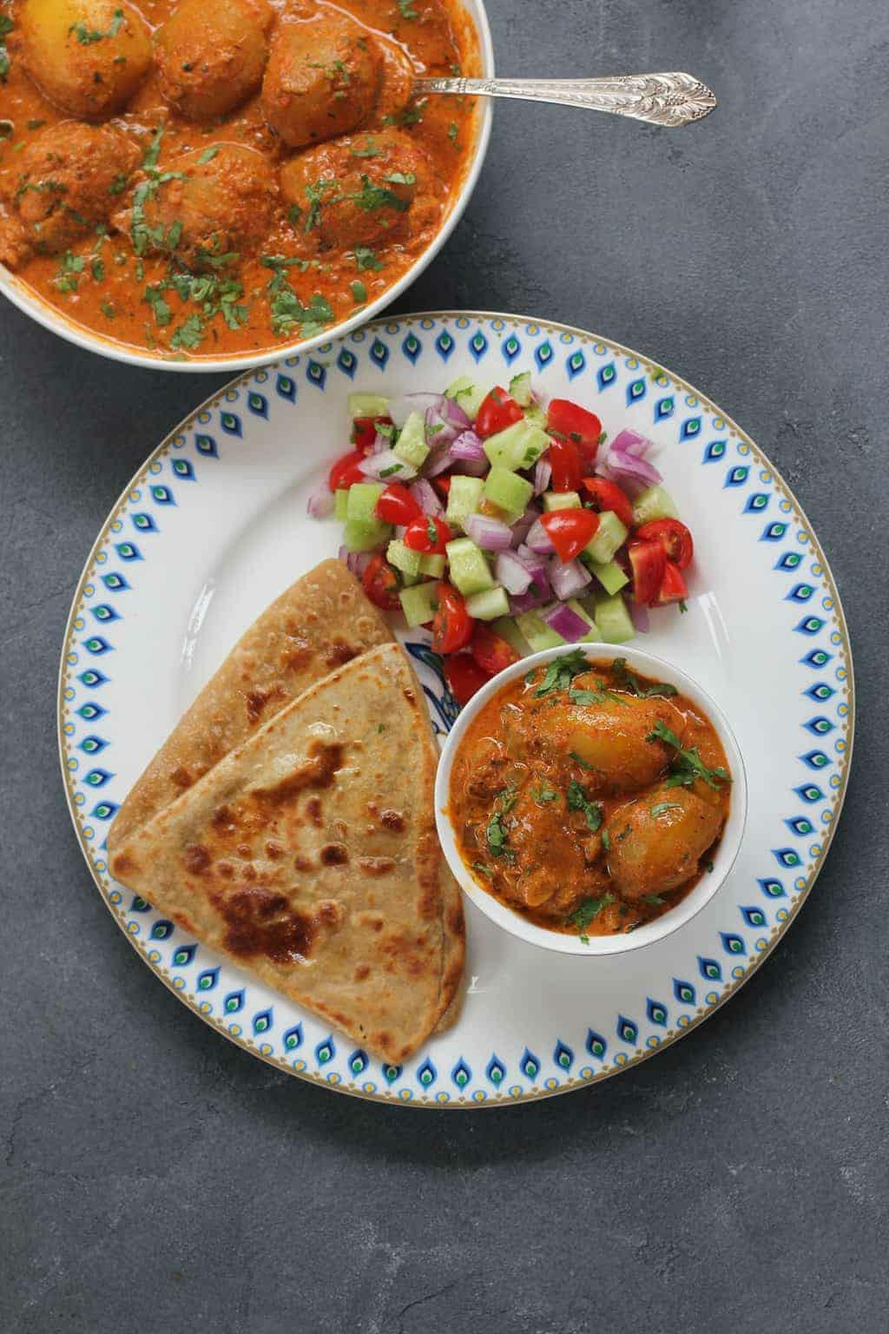DumAloo: (452, 661, 725, 940)
